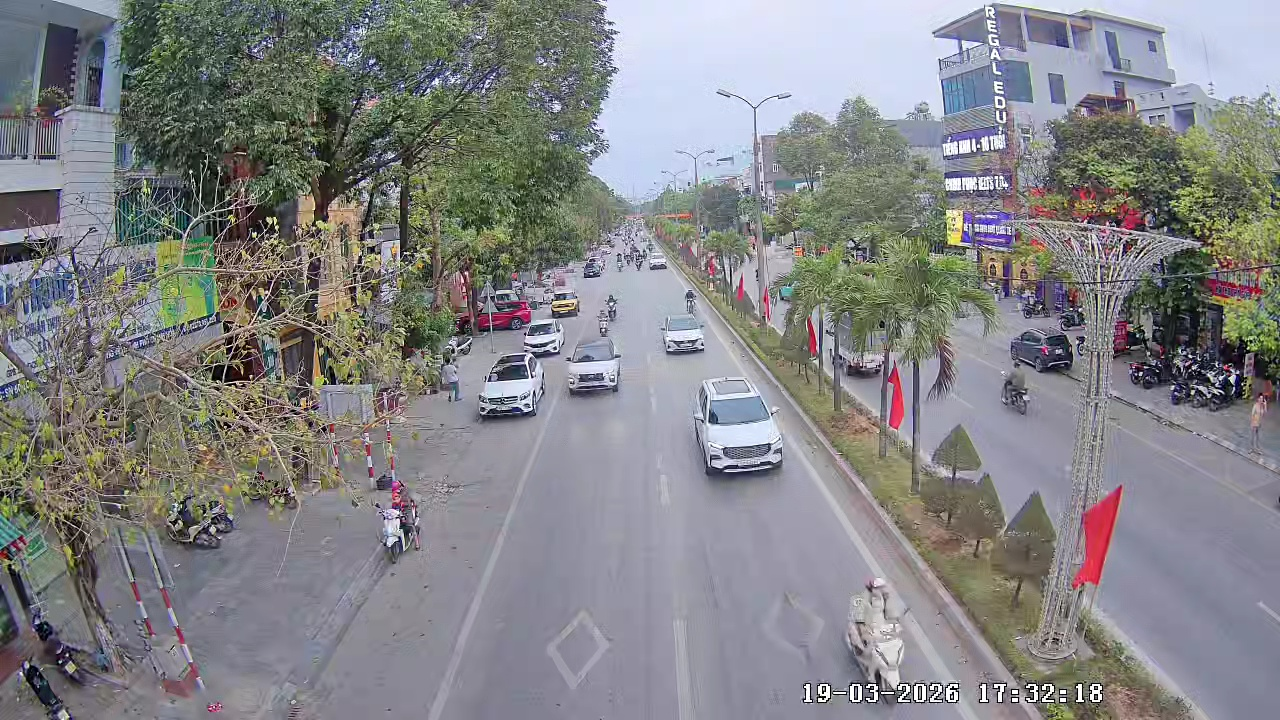car: (691, 376, 785, 476), (476, 353, 546, 419), (564, 338, 623, 395), (1009, 326, 1075, 373), (659, 312, 706, 355), (521, 315, 566, 355), (550, 289, 581, 318)
motorbike: (842, 571, 926, 697), (374, 503, 404, 565), (1001, 366, 1031, 415), (443, 362, 461, 402), (602, 293, 619, 329), (597, 302, 611, 338)
